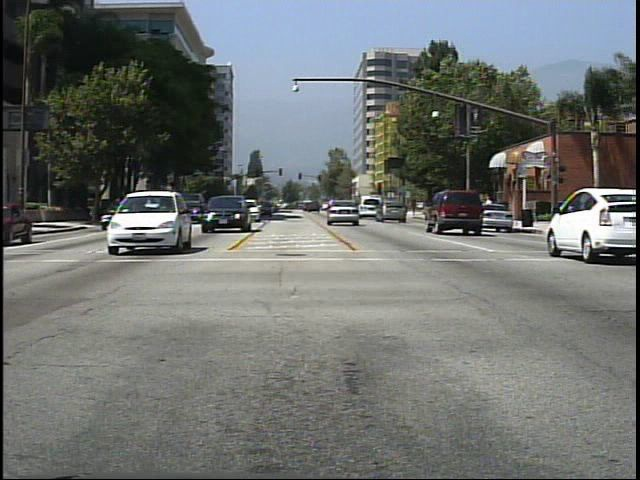person: (482, 194, 501, 227), (441, 193, 459, 227)
